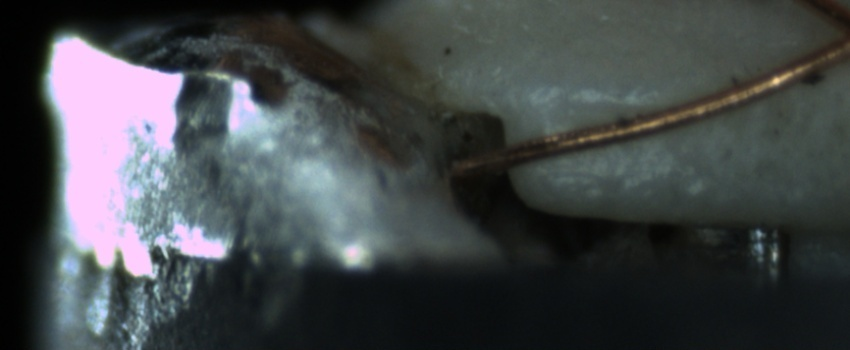CL: (805, 4, 850, 68)
DL: (536, 73, 681, 132)
